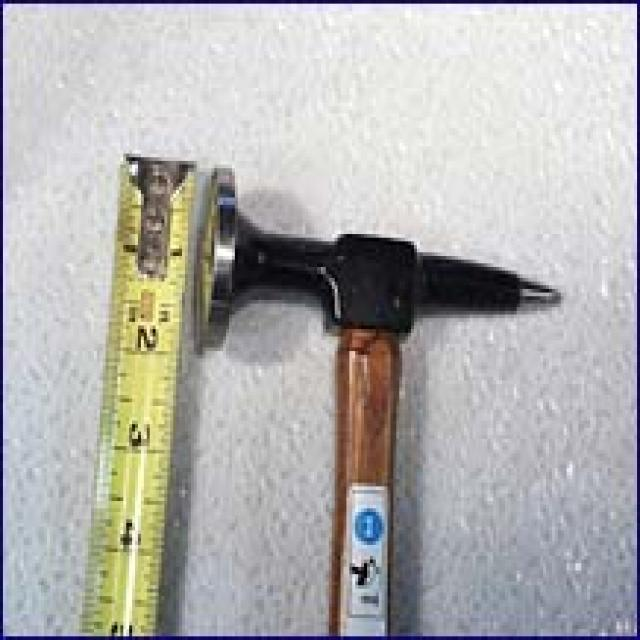hammer: (172, 145, 580, 640)
